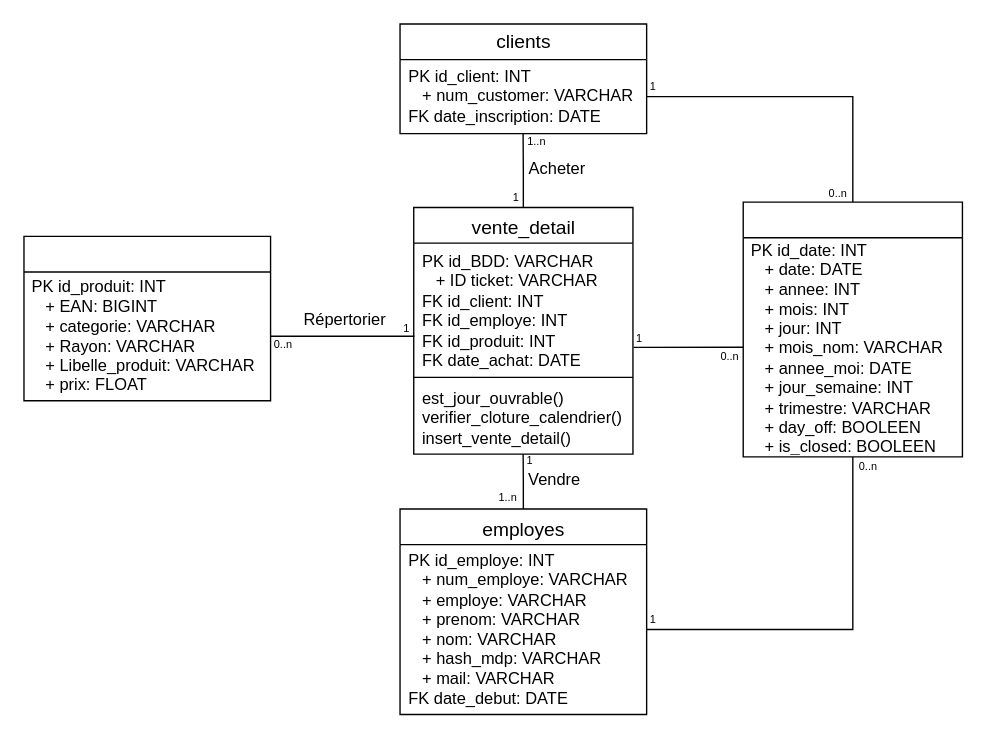
Image size: 986x738. Some labels were removed from this diagram. The box of each missing label's shape, as (x1, y1, x2, y2) in pixels:
calendrier: (742, 201, 962, 457)
produits: (23, 235, 271, 401)
